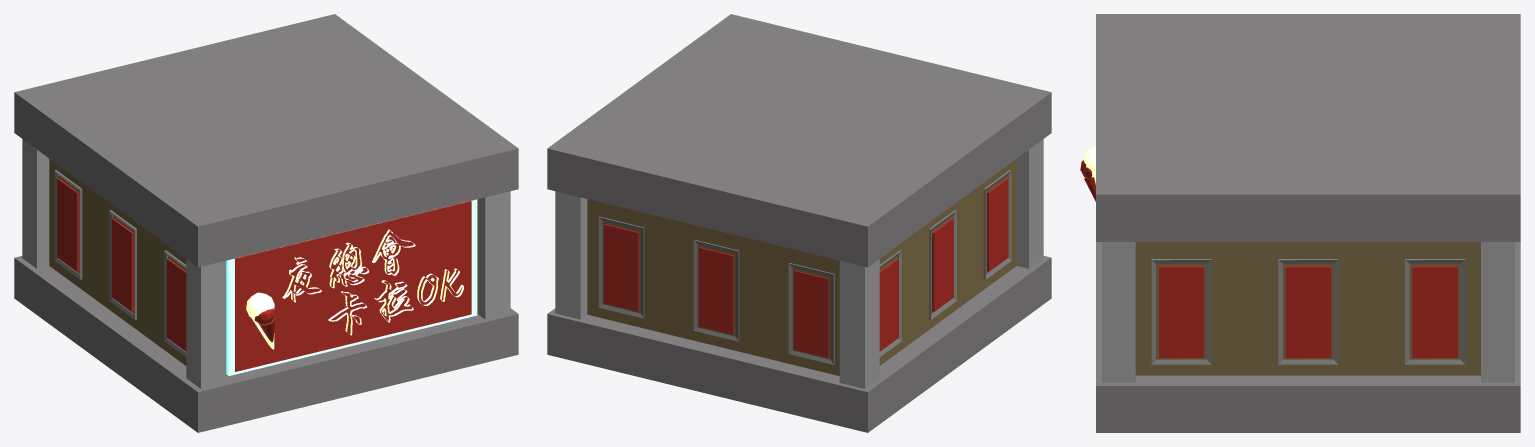
3 renders of one model, left to right at view 1: azimuth 30°, elevation 25°; view 2: azimuth 150°, elevation 25°; view 3: azimuth 270°, elevation 25°, orthographic. The views are drawn at different scales.
Parts seen in each view (by area): view 1: Cube.014, Cube.013, Cube.004, Cube.002, Cube.016, Cube.015, Text, Cube.017, Cube.012, Cube.005, Cube.010, Cube.011 (+1 smaller); view 2: Cube.014, Cube.002, Cube.013, Cube.017, Cube.018, Cube, Cube.001, Cube.003, Cube.016, Cube.011, Cube.010, Cube.012; view 3: Cube.014, Cube.002, Cube.013, Cube.008, Cube.009, Cube.007, Cube.015, Cube.018.
Part boxes in pixels (box(x1,y1,x2,y2)): Cube.014: box(14, 14, 518, 267); Cube.013: box(14, 256, 518, 432); Cube.004: box(235, 201, 471, 371); Cube.002: box(49, 159, 478, 375); Cube.016: box(186, 259, 226, 388); Cube.015: box(478, 191, 510, 319); Text: box(282, 229, 463, 335); Cube.017: box(22, 139, 49, 268); Cube.012: box(54, 170, 82, 279); Cube.005: box(226, 199, 477, 375); Cube.010: box(109, 210, 136, 319); Cube.011: box(164, 250, 186, 356); Cube.014: box(547, 14, 1051, 267); Cube.002: box(587, 159, 1016, 375); Cube.013: box(547, 256, 1051, 432); Cube.017: box(839, 259, 879, 388); Cube.018: box(555, 191, 587, 319); Cube: box(598, 216, 644, 318); Cube.001: box(788, 263, 834, 364); Cube.003: box(693, 239, 739, 341); Cube.016: box(1016, 139, 1043, 268); Cube.011: box(983, 170, 1011, 279); Cube.010: box(929, 210, 956, 319); Cube.012: box(879, 250, 901, 356); Cube.014: box(1096, 14, 1520, 241); Cube.002: box(1135, 242, 1480, 375); Cube.013: box(1096, 242, 1520, 432); Cube.008: box(1405, 259, 1465, 364); Cube.009: box(1278, 259, 1338, 364); Cube.007: box(1151, 259, 1211, 364); Cube.015: box(1102, 242, 1135, 382); Cube.018: box(1481, 242, 1514, 382).
Bounding box in the file's own units: 13.28 × 8.16 × 13.66.
